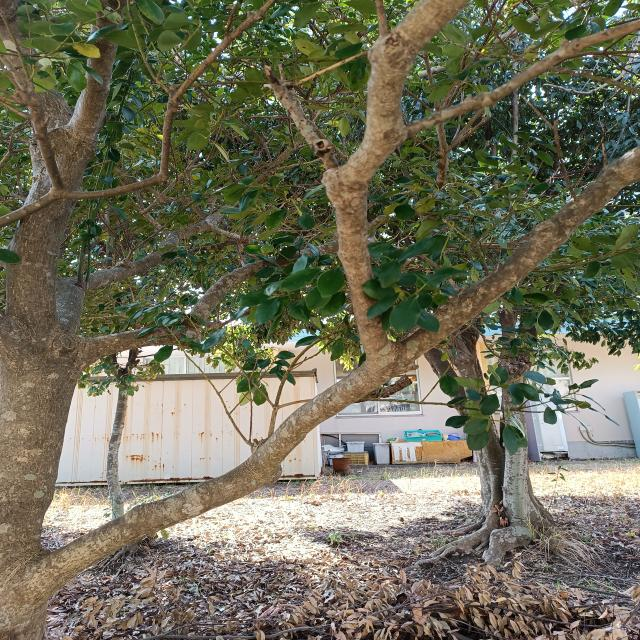Branch: (50, 147, 640, 582), (325, 0, 468, 352), (85, 238, 338, 365), (55, 198, 238, 330), (68, 2, 129, 137)
Twig: (0, 0, 275, 227), (410, 19, 639, 134), (263, 65, 340, 170), (10, 88, 63, 190), (1, 11, 35, 91), (0, 57, 25, 92), (209, 226, 258, 240), (0, 64, 20, 92)
